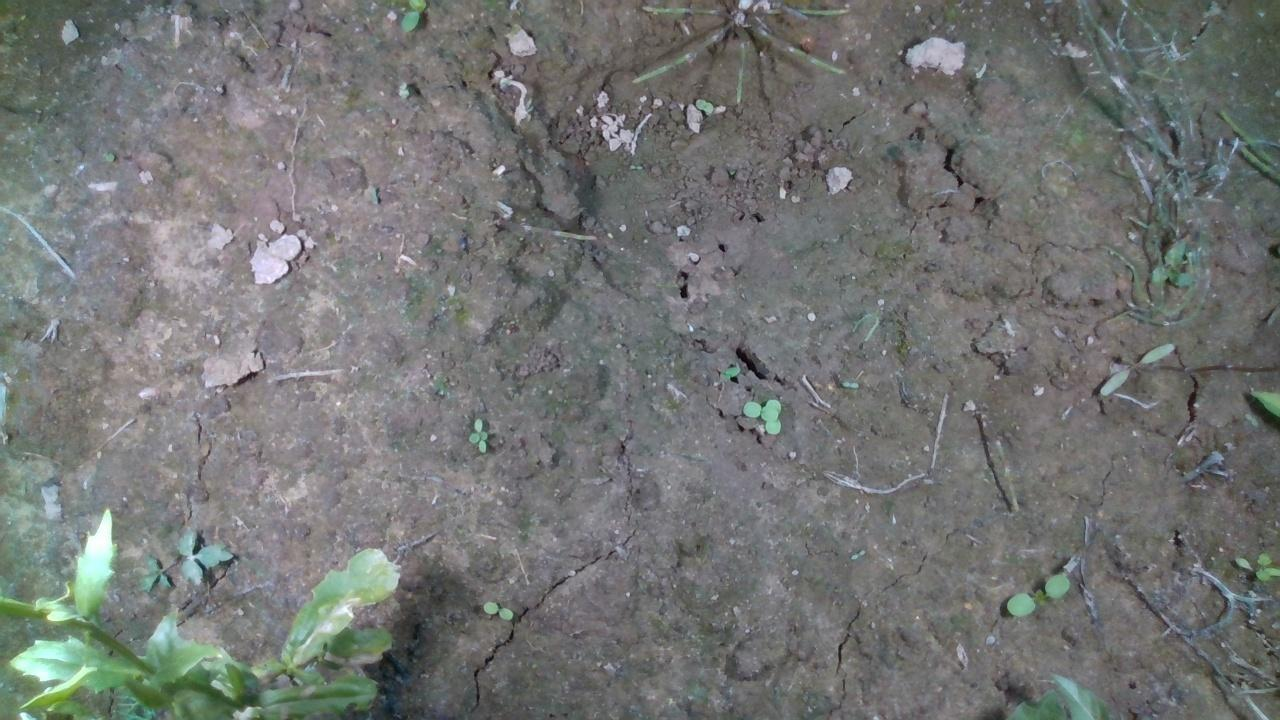weed: (1095, 340, 1177, 397), (1007, 569, 1072, 617), (467, 415, 502, 451), (482, 599, 513, 619)
